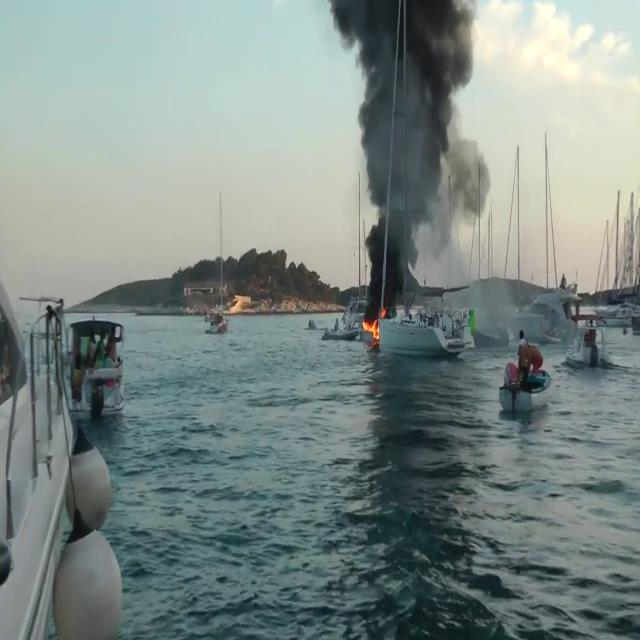Fire: (361, 308, 383, 344)
Smoke: (335, 0, 491, 298)
